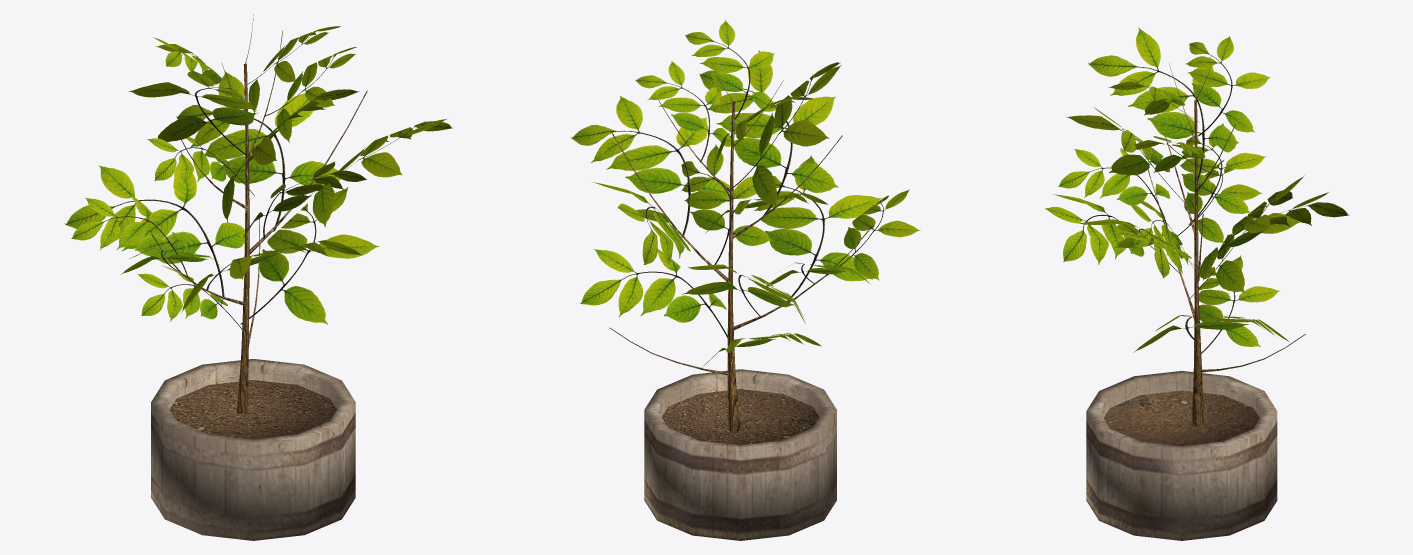
The model's file is potted plant 06.FBX.
The picture shows the model from 3 angles, left to right: view 1: azimuth 30°, elevation 25°; view 2: azimuth 150°, elevation 25°; view 3: azimuth 270°, elevation 25°; orthographic projection. The views are drawn at different scales.
Visible parts, largest first — view 1: potted plant 06; view 2: potted plant 06; view 3: potted plant 06.
Boxes of the visible parts, left/top/right/bottom form: potted plant 06: left=64, top=14, right=452, bottom=540; potted plant 06: left=571, top=20, right=920, bottom=540; potted plant 06: left=1044, top=27, right=1349, bottom=540.
Bounding box in the file's own units: 181 × 194 × 158.
3 materials, 3 textured.
